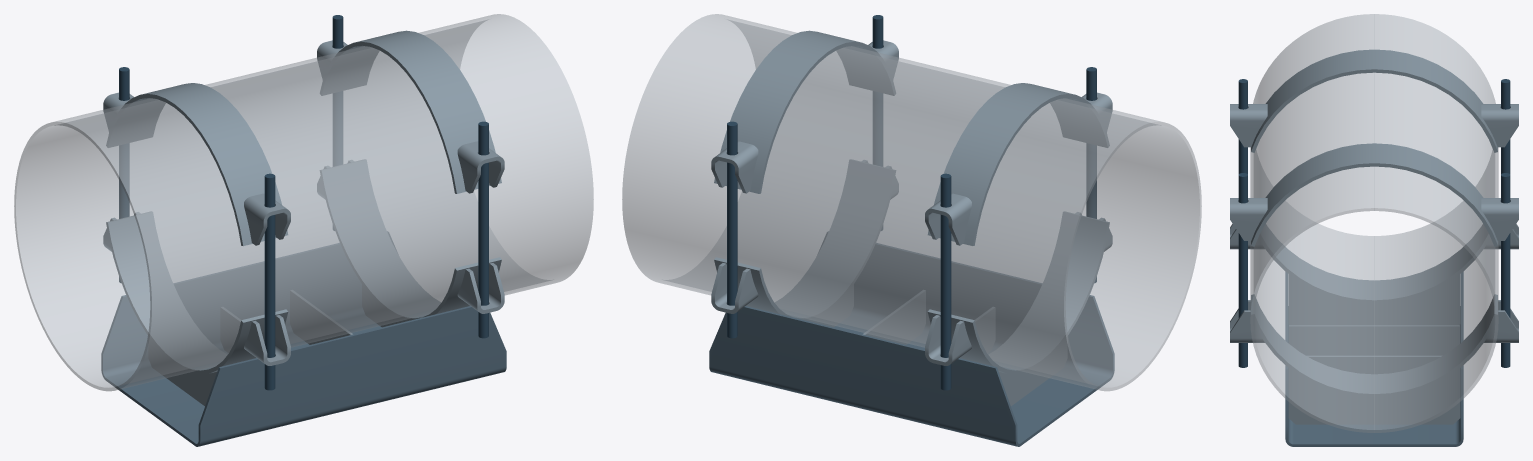
Rendered from TS-627.00.000-057-opora-dn530-H100-L680.glb.
The picture shows the model from 3 angles, left to right: view 1: azimuth 30°, elevation 25°; view 2: azimuth 150°, elevation 25°; view 3: azimuth 270°, elevation 25°; orthographic projection. The views are drawn at different scales.
Visible parts, largest first — view 1: truba, skoba_0, podushka_5, podushka_6, bugel1_podushka_0, bugel0_podushka_0, shpilka_0_-1, shpilka_1_-1, rebro5_4, rebro4_1, bugel0_ushko_2, bugel1_ushko_2 (+6 smaller); view 2: truba, skoba_0, podushka_5, podushka_6, bugel1_podushka_0, bugel0_podushka_0, shpilka_0_1, shpilka_1_1, rebro5_4, rebro4_1, bugel0_ushko_1, bugel1_ushko_1 (+6 smaller); view 3: truba, rebro4_2, podushka_6, bugel1_podushka_0, bugel0_podushka_0, rebro4_1, podushka_5, skoba_0, rebro5_3, rebro5_4, shpilka_1_1, shpilka_1_-1 (+10 smaller).
Part boxes in pixels (x1,y1,x2,y2): truba: [14, 14, 593, 391]; skoba_0: [101, 231, 506, 446]; podushka_5: [106, 211, 288, 374]; podushka_6: [320, 159, 501, 321]; bugel1_podushka_0: [320, 30, 501, 193]; bugel0_podushka_0: [106, 83, 288, 245]; shpilka_0_-1: [264, 173, 275, 390]; shpilka_1_-1: [478, 121, 488, 338]; rebro5_4: [290, 290, 352, 344]; rebro4_1: [148, 337, 216, 405]; bugel0_ushko_2: [244, 193, 290, 245]; bugel1_ushko_2: [457, 141, 504, 193]; truba: [622, 14, 1201, 391]; skoba_0: [709, 231, 1114, 446]; podushka_5: [927, 211, 1109, 374]; podushka_6: [714, 159, 895, 321]; bugel1_podushka_0: [714, 30, 895, 193]; bugel0_podushka_0: [927, 83, 1109, 245]; shpilka_0_1: [940, 173, 951, 390]; shpilka_1_1: [727, 121, 737, 338]; rebro5_4: [863, 290, 925, 344]; rebro4_1: [999, 337, 1067, 405]; bugel0_ushko_1: [925, 193, 971, 245]; bugel1_ushko_1: [711, 141, 758, 193]; truba: [1250, 14, 1498, 432]; rebro4_2: [1288, 368, 1460, 424]; podushka_6: [1251, 294, 1497, 397]; bugel1_podushka_0: [1251, 143, 1497, 246]; bugel0_podushka_0: [1251, 49, 1497, 152]; rebro4_1: [1288, 274, 1460, 325]; podushka_5: [1259, 224, 1489, 303]; skoba_0: [1285, 271, 1463, 446]; rebro5_3: [1289, 325, 1459, 355]; rebro5_4: [1307, 355, 1441, 374]; shpilka_1_1: [1501, 173, 1510, 367]; shpilka_1_-1: [1238, 173, 1247, 367].
Bounding box in the file's own units: 980 × 644 × 616.
